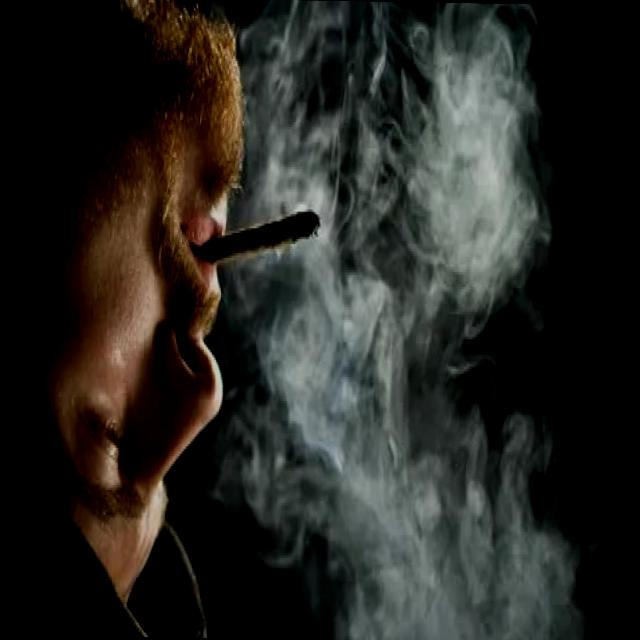smoke: (195, 210, 322, 270)
